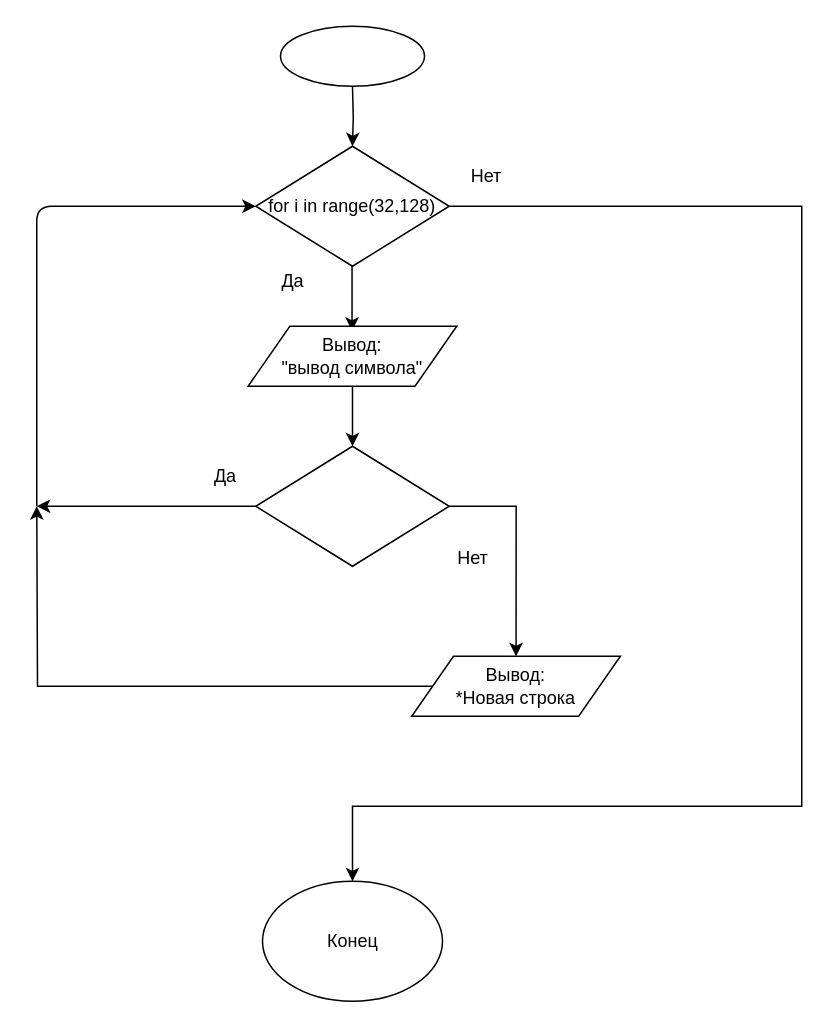
The diagram is 840 pixels wide and 1028 high, and some of its shapes have lost their labels. Here are the shapes that lost their labels. From the top down, the box of each, then its label:
(279, 25, 424, 86): Начало
(254, 445, 449, 566): if i % 10 == 0
